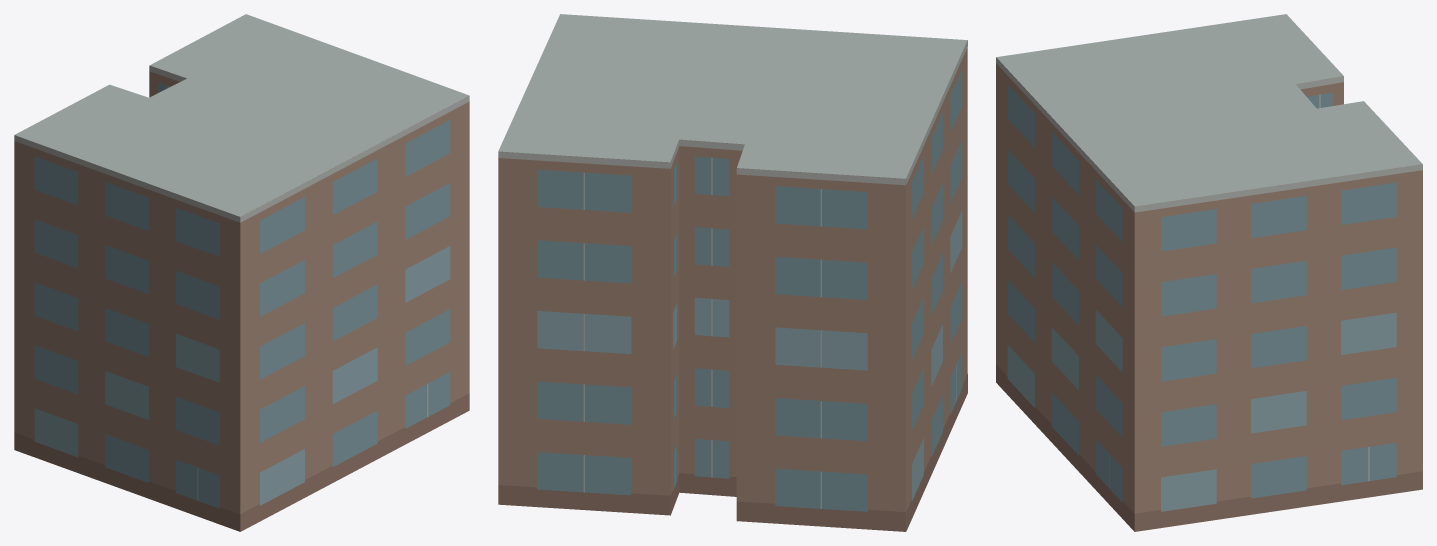
The model's file is survey-upis-33004544.glb.
3 renders of one model, left to right at view 1: azimuth 30°, elevation 25°; view 2: azimuth 150°, elevation 25°; view 3: azimuth 270°, elevation 25°, orthographic. The views are drawn at different scales.
Visible parts, largest first — view 1: survey-upis-33004544.tmp; view 2: survey-upis-33004544.tmp; view 3: survey-upis-33004544.tmp.
Boxes of the visible parts, bbox=[...] form: survey-upis-33004544.tmp: bbox=[14, 14, 469, 531]; survey-upis-33004544.tmp: bbox=[498, 14, 967, 531]; survey-upis-33004544.tmp: bbox=[996, 14, 1422, 531].
Size of the model in its own units: 16.77 by 13.2 by 15.7.
